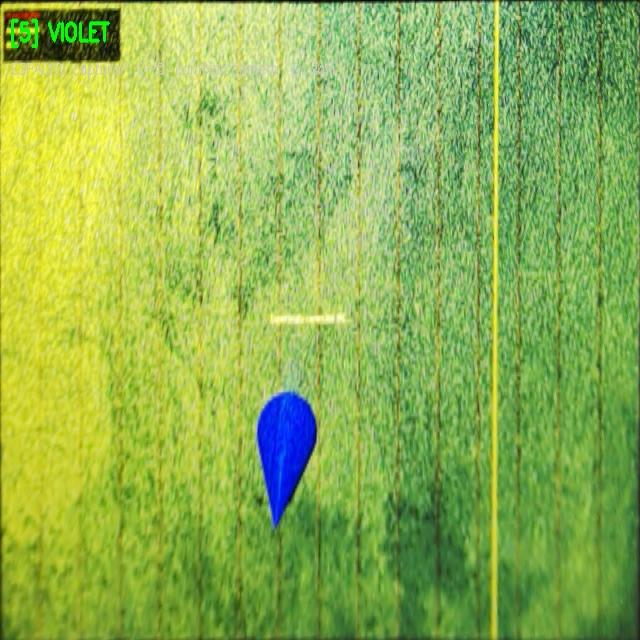violet: (257, 392, 315, 527)
